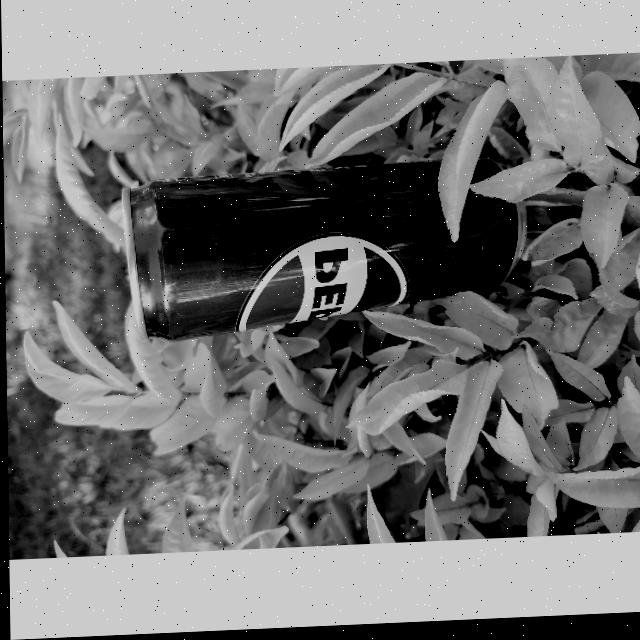Pepsi: (117, 163, 525, 341)
